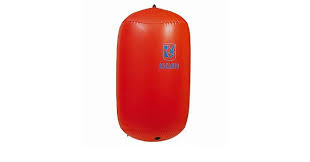buoy: (115, 7, 191, 144)
